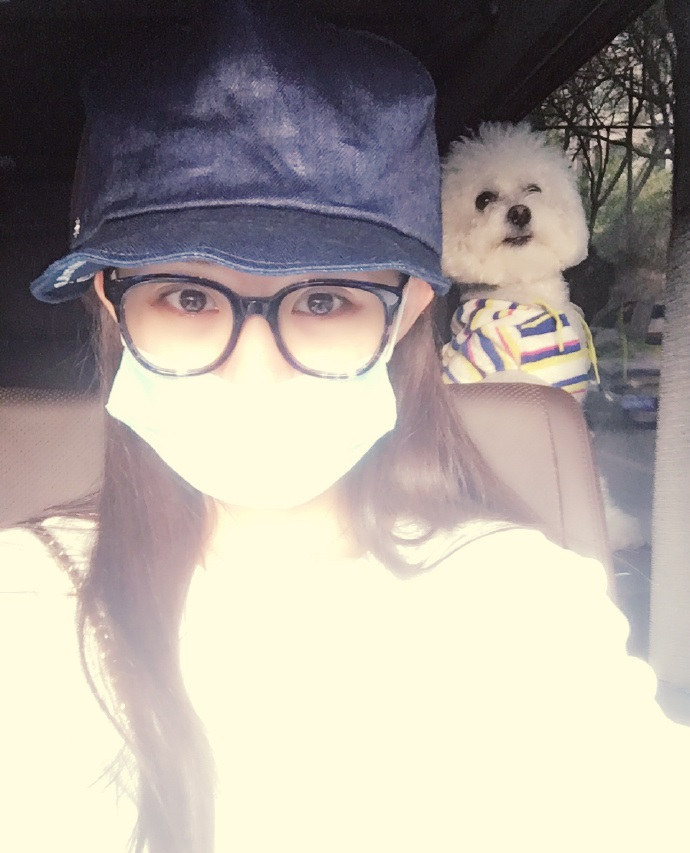face_mask: (110, 117, 398, 517)
